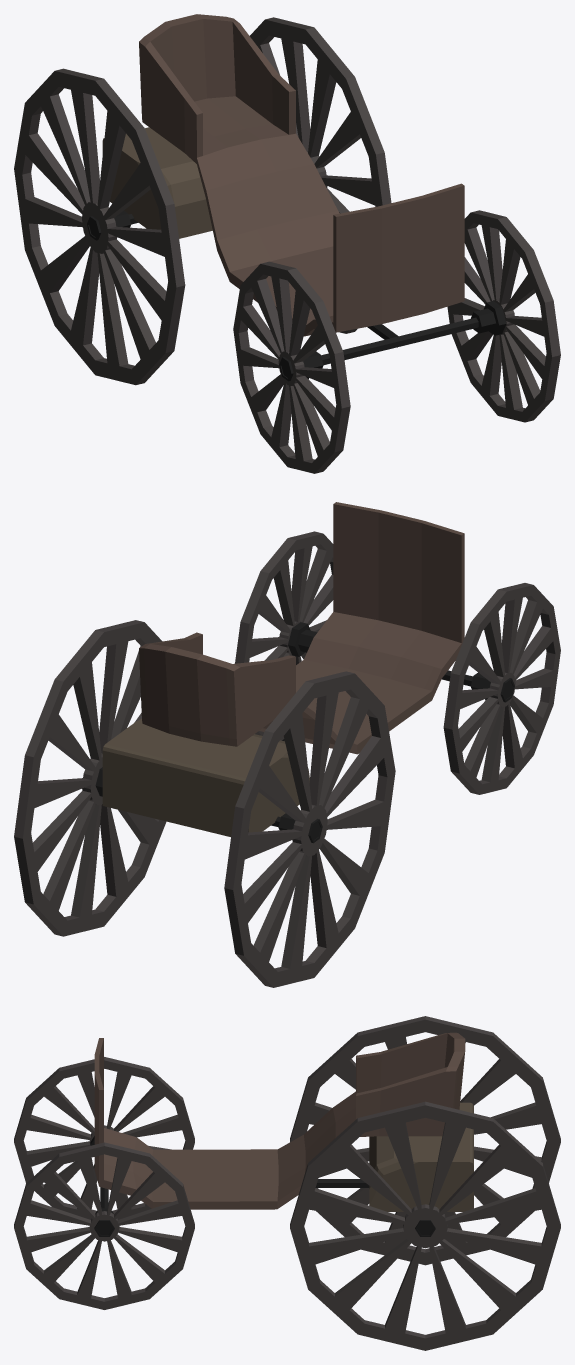
File: Karieta.fbx
3 views of the same model, one above another, from view 1: azimuth 30°, elevation 25°; view 2: azimuth 150°, elevation 25°; view 3: azimuth 270°, elevation 25° (orthographic). The views are drawn at different scales.
Parts seen in each view (by area): view 1: Base, R-Back_Wheel, R-Front_Wheel, L-Front_Wheel, L-Back_Wheel, Chest, Axle; view 2: Base, R-Back_Wheel, L-Back_Wheel, R-Front_Wheel, Chest, L-Front_Wheel, Axle; view 3: L-Back_Wheel, Base, L-Front_Wheel, R-Back_Wheel, R-Front_Wheel, Chest, Axle.
Boxes of the visible parts, x1,y1,x2,y2 form: Base: (139, 14, 464, 336); R-Back_Wheel: (14, 68, 185, 385); R-Front_Wheel: (233, 261, 350, 473); L-Front_Wheel: (447, 210, 560, 422); L-Back_Wheel: (250, 17, 391, 333); Chest: (102, 127, 212, 238); Axle: (87, 210, 506, 381); Base: (139, 502, 464, 754); R-Back_Wheel: (224, 671, 395, 987); L-Back_Wheel: (14, 620, 166, 936); R-Front_Wheel: (443, 583, 560, 794); Chest: (102, 719, 309, 836); L-Front_Wheel: (235, 531, 333, 740); Axle: (95, 622, 514, 843); L-Back_Wheel: (290, 1101, 560, 1350); Base: (94, 1032, 465, 1209); L-Front_Wheel: (14, 1142, 194, 1309); R-Back_Wheel: (290, 1016, 560, 1265); R-Front_Wheel: (14, 1057, 194, 1219); Chest: (369, 1102, 473, 1211); Axle: (90, 1136, 435, 1236).
Bounding box in the file's own units: 160 × 214 × 406.
